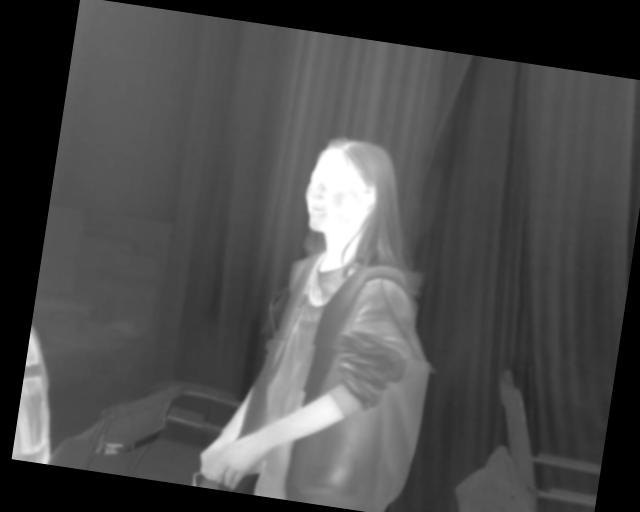face: (300, 131, 400, 244)
